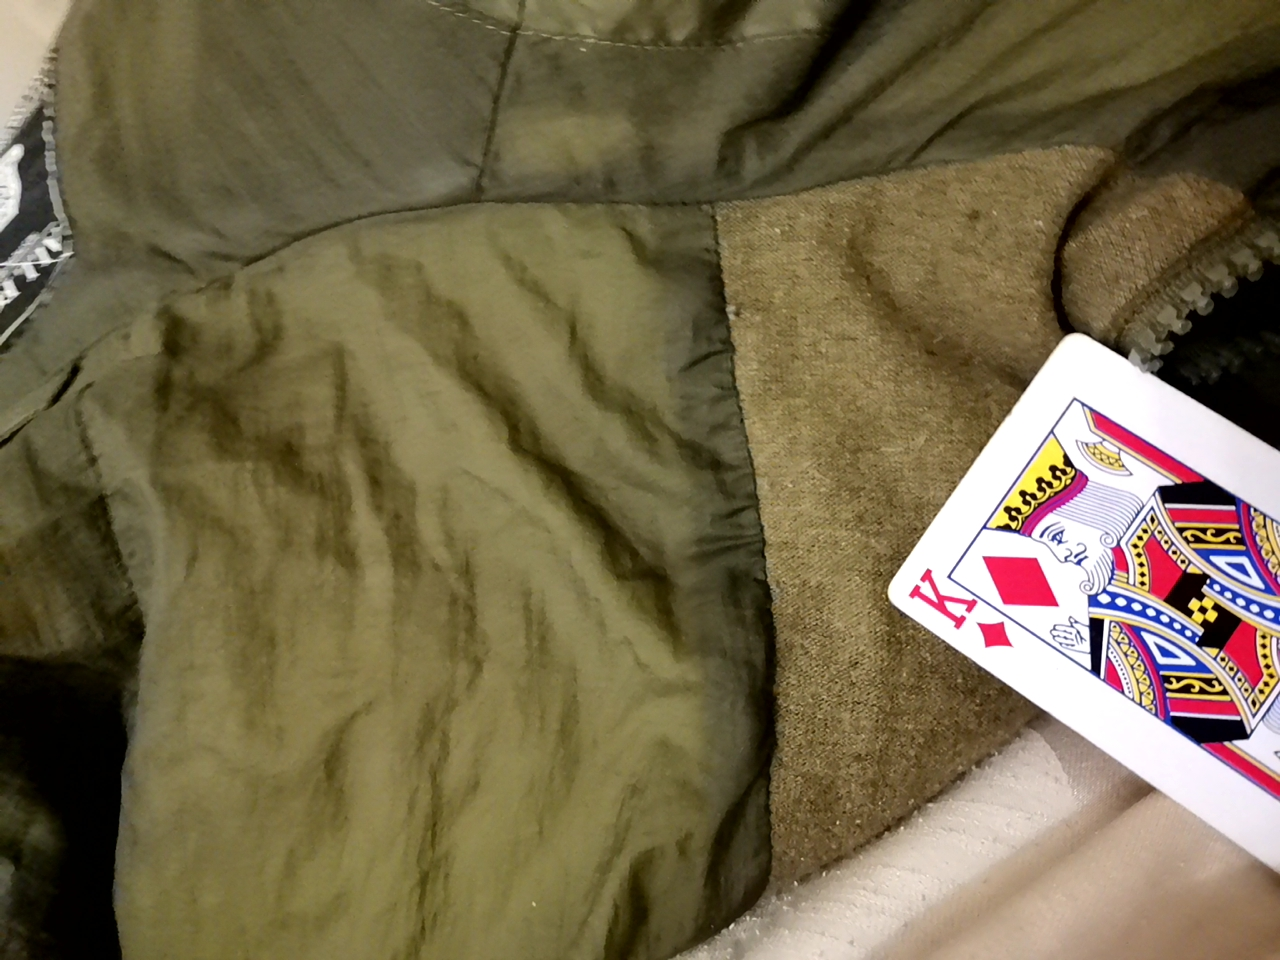fk k: (865, 322, 1280, 884)
